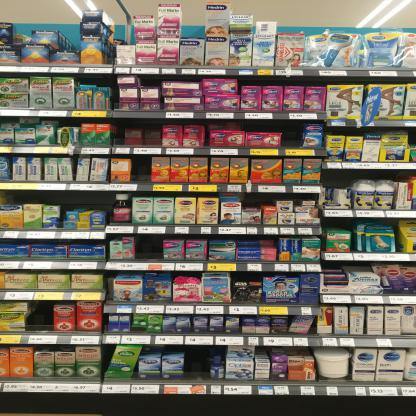Void: (116, 118, 163, 144), (64, 192, 114, 210), (26, 302, 56, 332), (187, 345, 213, 378), (6, 188, 59, 204), (243, 120, 304, 133), (139, 236, 165, 257)
